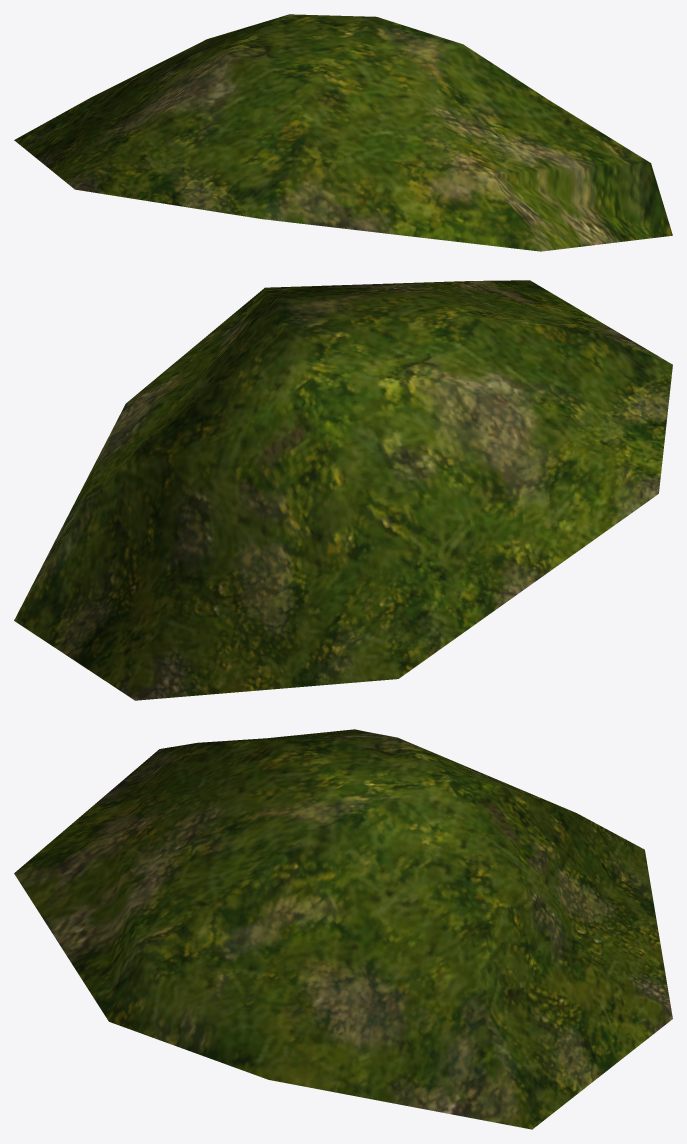
Rendered from OVERHILL_A_01_ROCK206.fbx.
The picture shows the model from 3 angles, top to bottom: view 1: azimuth 30°, elevation 25°; view 2: azimuth 150°, elevation 25°; view 3: azimuth 270°, elevation 25°; orthographic projection. The views are drawn at different scales.
Visible parts, largest first — view 1: OVERHILL_A_01_ROCK206; view 2: OVERHILL_A_01_ROCK206; view 3: OVERHILL_A_01_ROCK206.
Boxes of the visible parts, <box> form: OVERHILL_A_01_ROCK206: <box>14,14,672,251</box>; OVERHILL_A_01_ROCK206: <box>14,280,672,700</box>; OVERHILL_A_01_ROCK206: <box>14,729,672,1129</box>.
Bounding box in the file's own units: 10020 × 4587 × 11092.
1 material, 1 textured.
